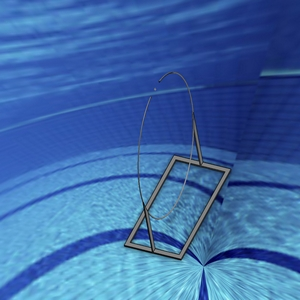circle: (121, 69, 231, 261)
